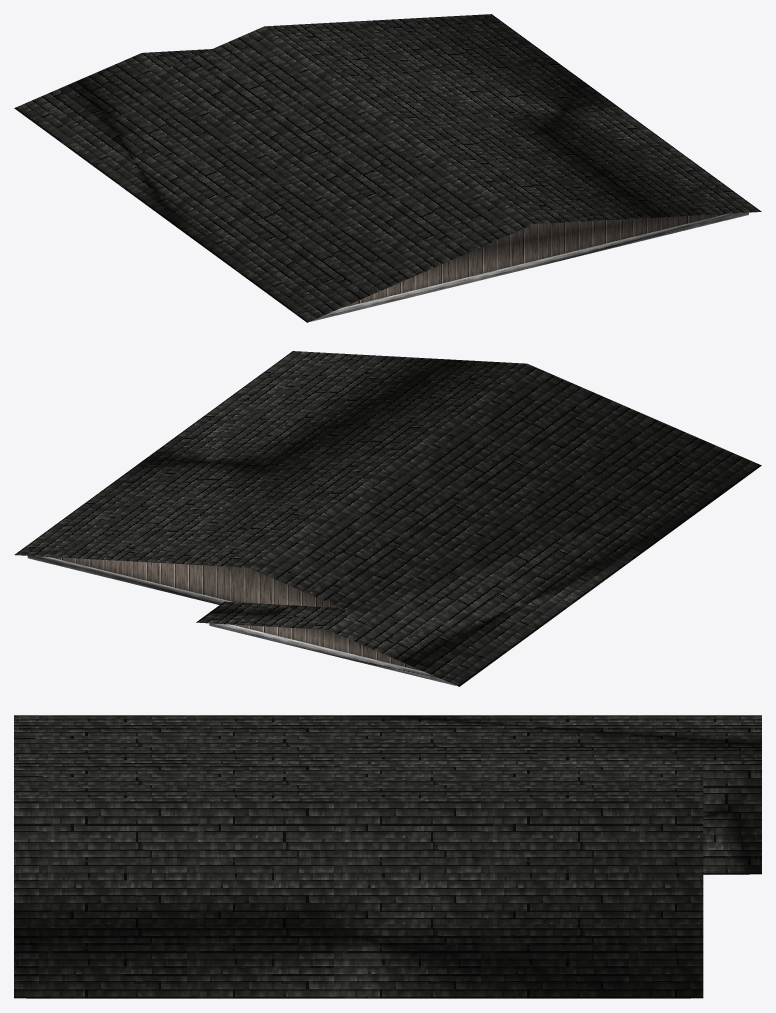
File: Roof2.obj
3 views of the same model, one above another, from view 1: azimuth 30°, elevation 25°; view 2: azimuth 150°, elevation 25°; view 3: azimuth 270°, elevation 25° (orthographic). The views are drawn at different scales.
Visible parts, largest first — view 1: top2, base2; view 2: top2, base2; view 3: top2, base2.
Part boxes in pixels (x1,y1,x2,y2): top2: (14, 14, 761, 322); base2: (310, 212, 748, 321); top2: (14, 351, 761, 686); base2: (27, 556, 455, 685); top2: (14, 715, 761, 998); base2: (26, 874, 749, 998).
Bounding box in the file's own units: 548 × 55 × 612.
